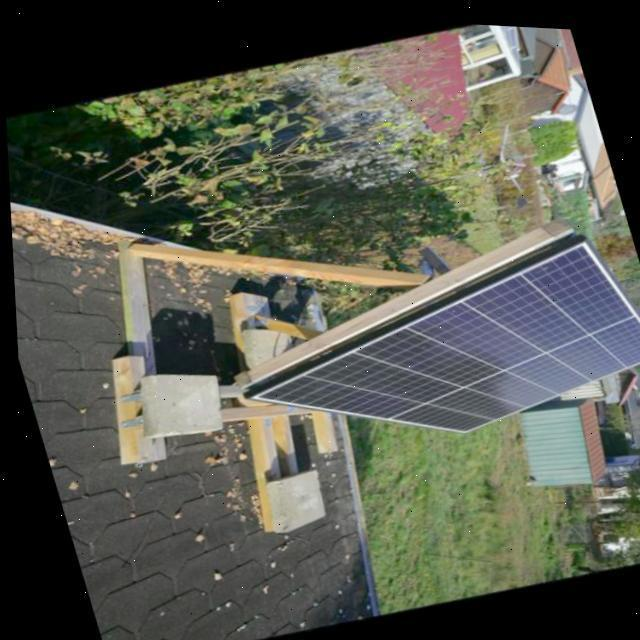Normal Solar Panel: (223, 211, 640, 480)
